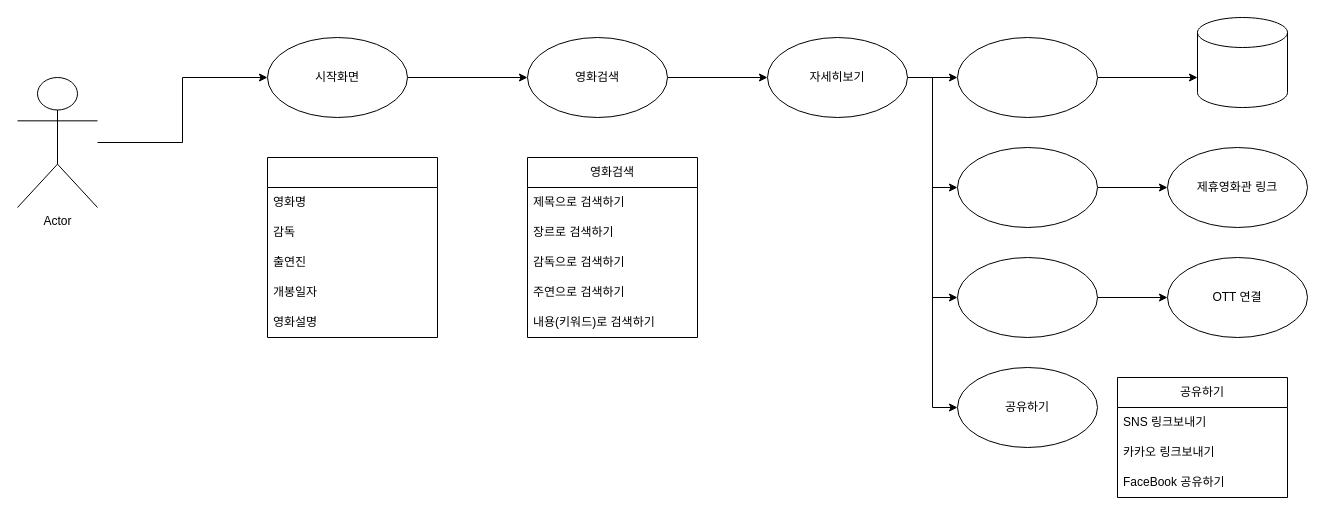
The diagram is 1325 pixels wide and 515 high, and some of its shapes have lost their labels. Each missing label, with the box of its shape:
OTT 링크 바로가기: (956, 256, 1098, 338)
영화예매하기: (956, 146, 1098, 228)
영화평남기기: (956, 36, 1098, 118)
최신영화: (266, 156, 438, 338)
